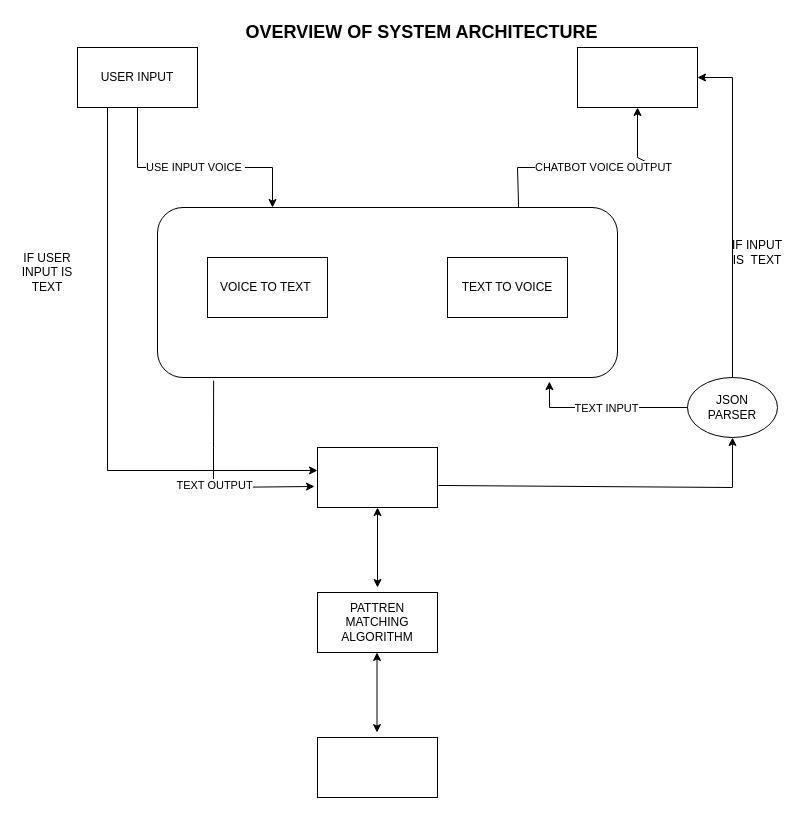
Some shapes in this 804 by 815 pixel diagram are drawn without their labels. Each missing label, with the centre of its shape:
"DATABASE" goes at (377,767).
"MIDDLEWARE OF API" goes at (377,477).
"OUTPUT TO USER" goes at (637,77).
